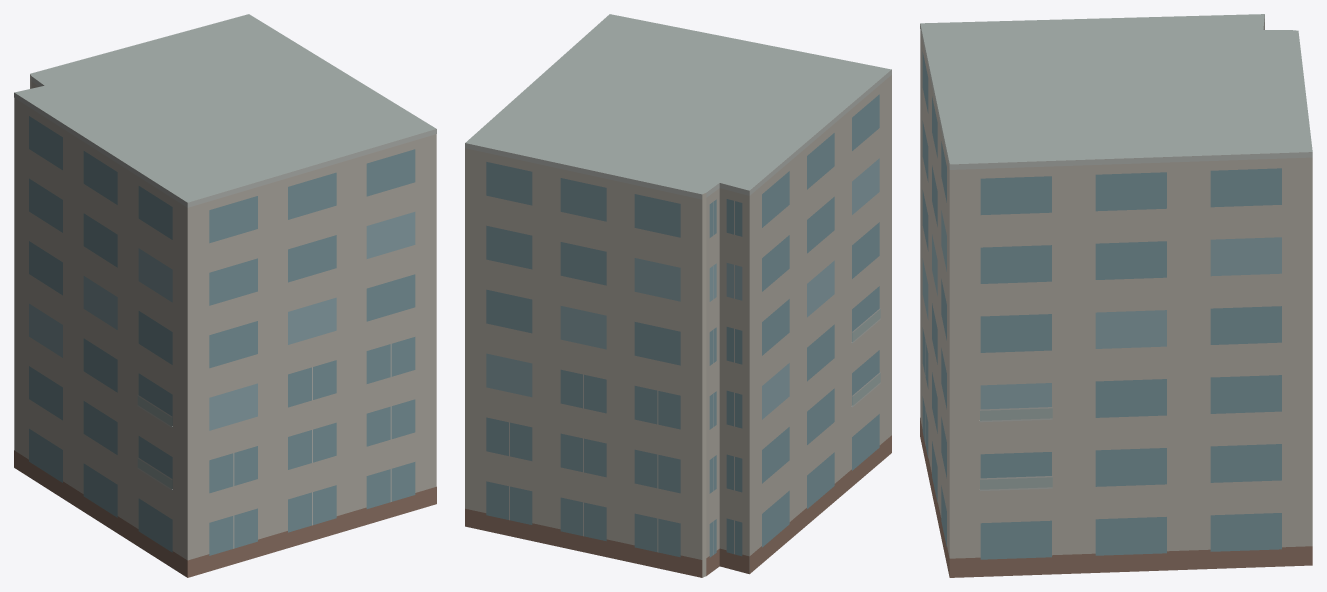
File: survey-upis-32742538.glb
3 renders of one model, left to right at view 1: azimuth 30°, elevation 25°; view 2: azimuth 150°, elevation 25°; view 3: azimuth 270°, elevation 25°, orthographic. The views are drawn at different scales.
Parts seen in each view (by area): view 1: survey-upis-32742538.tmp; view 2: survey-upis-32742538.tmp; view 3: survey-upis-32742538.tmp.
Part boxes in pixels (x1,y1,x2,y2): survey-upis-32742538.tmp: (14,14,436,577); survey-upis-32742538.tmp: (465,14,891,577); survey-upis-32742538.tmp: (920,14,1312,577).
Size of the model in its own units: 14.06 by 18 by 15.5.
